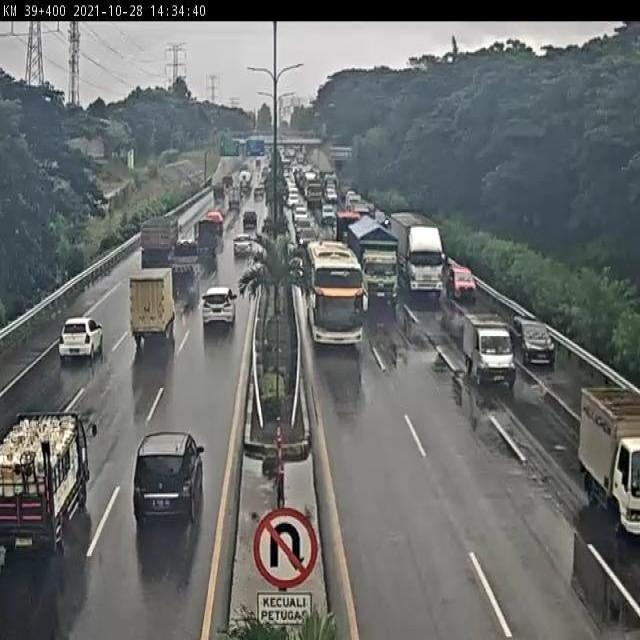big bus: (299, 241, 375, 359)
big truck: (355, 213, 403, 312), (403, 215, 449, 309), (131, 212, 184, 272)
car: (131, 424, 211, 541), (459, 307, 518, 405), (49, 308, 114, 383), (508, 303, 572, 377), (196, 280, 243, 352), (229, 225, 259, 272), (452, 267, 479, 305)
small truck: (1, 416, 101, 564), (578, 373, 640, 539), (116, 263, 182, 365)
